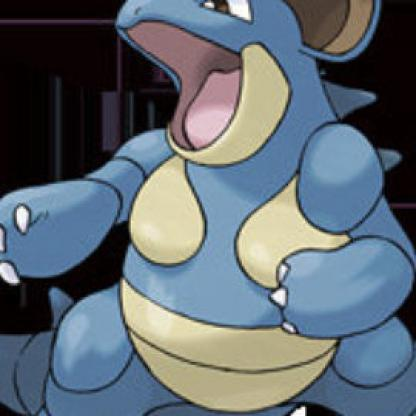Nidoqueen: (1, 1, 416, 416)
